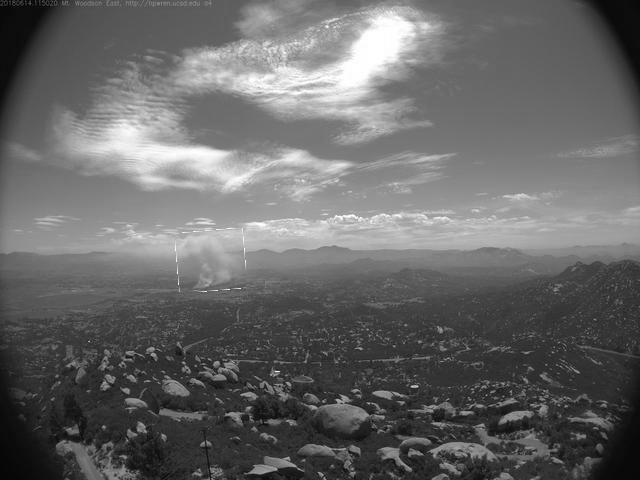smoke: (177, 231, 247, 293)
